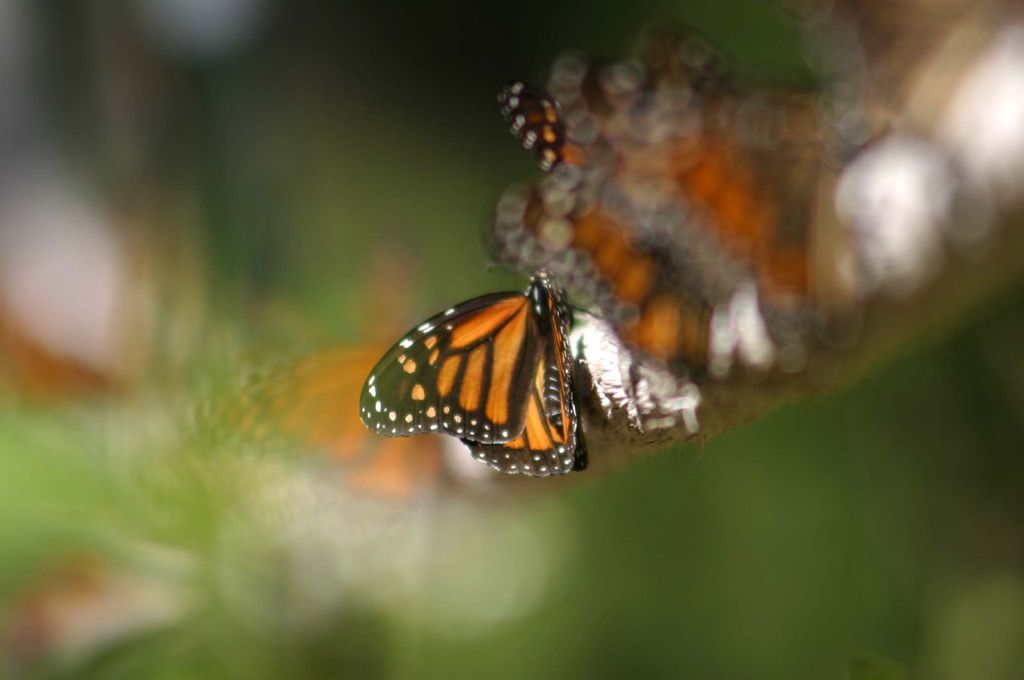Butterfly: (359, 250, 594, 485)
